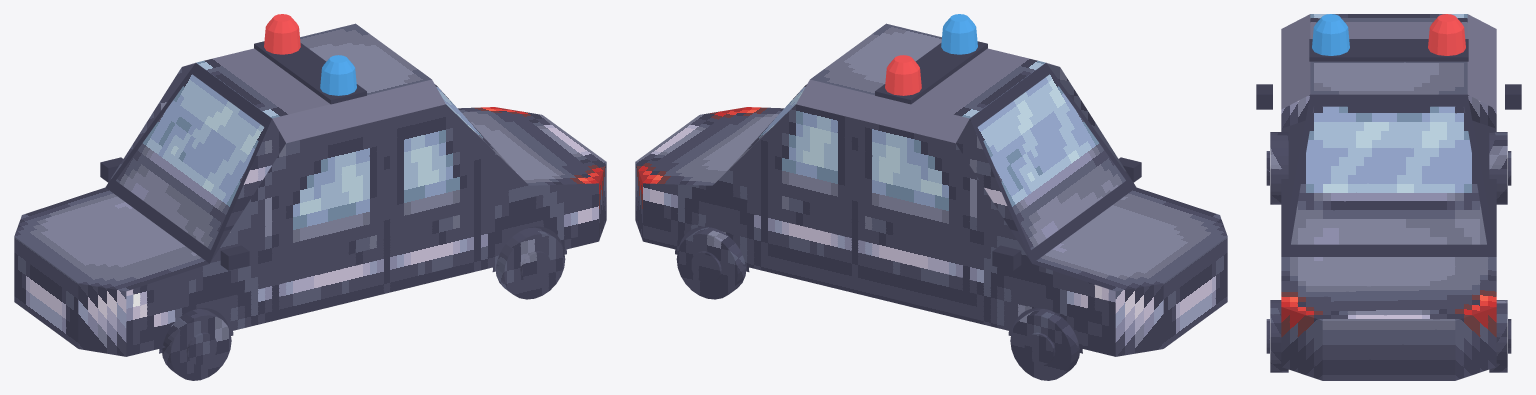
Rendered from police-car-v1.glb.
3 views of the same model, side by side, from view 1: azimuth 30°, elevation 25°; view 2: azimuth 150°, elevation 25°; view 3: azimuth 270°, elevation 25° (orthographic). The views are drawn at different scales.
Visible parts, largest first — view 1: Sedan-east, Windshield-glass, Hood, Roof, Trunk, Roof-shoulder-east, Front-fascia, Windshield-frame, Front-corner--1, Tire_RL, Tire_FL, Sedan-west (+6 smaller); view 2: Sedan-west, Windshield-glass, Hood, Roof, Trunk, Roof-shoulder-west, Front-fascia, Windshield-frame, Front-corner-1, Tire_RR, Tire_FR, Sedan-east (+6 smaller); view 3: Rear-window-glass, Trunk, Rear-fascia, Roof, Rear-window-frame, Underfloor, Rear-corner-1, Rear-corner--1, Roof-shoulder-east, Roof-shoulder-west, Lightbar-housing, Police-blue-lens (+9 smaller).
Boxes of the visible parts, x1,y1,x2,y2 form: Sedan-east: (126, 104, 598, 356); Windshield-glass: (116, 74, 264, 249); Hood: (14, 187, 209, 291); Roof: (196, 23, 431, 118); Trunk: (458, 107, 606, 185); Roof-shoulder-east: (272, 79, 445, 143); Front-fascia: (14, 237, 78, 348); Windshield-frame: (105, 63, 271, 263); Front-corner--1: (78, 283, 126, 356); Tire_RL: (496, 227, 565, 299); Tire_FL: (162, 309, 231, 380); Sedan-west: (107, 64, 285, 230); Sedan-west: (643, 104, 1115, 356); Windshield-glass: (977, 74, 1125, 249); Hood: (1032, 187, 1227, 291); Roof: (810, 23, 1045, 118); Trunk: (635, 107, 783, 185); Roof-shoulder-west: (796, 79, 969, 143); Front-fascia: (1163, 237, 1227, 348); Windshield-frame: (970, 63, 1136, 263); Front-corner-1: (1115, 283, 1163, 356); Tire_RR: (676, 227, 745, 299); Tire_FR: (1010, 309, 1079, 380); Sedan-east: (956, 64, 1134, 230); Rear-window-glass: (1291, 106, 1486, 244); Trunk: (1281, 257, 1496, 320); Rear-fascia: (1322, 321, 1455, 380); Roof: (1310, 14, 1467, 94); Rear-window-frame: (1281, 94, 1496, 256); Underfloor: (1281, 120, 1496, 254); Rear-corner-1: (1455, 307, 1496, 380); Rear-corner--1: (1281, 307, 1322, 380); Roof-shoulder-east: (1281, 14, 1310, 109); Roof-shoulder-west: (1467, 14, 1496, 109); Lightbar-housing: (1314, 39, 1463, 61); Police-blue-lens: (1312, 14, 1349, 55).
Size of the model in its own units: 76 by 35.6 by 32.
1 material, 1 textured.
